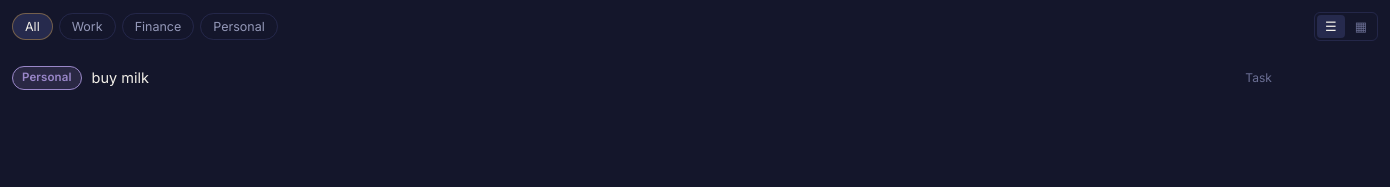
Test case: EntryList › defaults to list layout and can switch to card layout
The width and height of the screenshot is (1390, 187).
Expected: the list with class "entry-list" is shown, [12,66,1272,90]
Step 1. Click the button named "card view" → click(1361, 26), box [1347,15,1375,38]
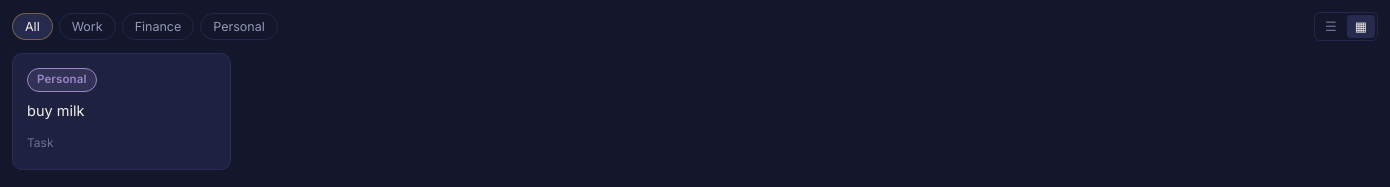
Expected: the list with class "entry-list" is shown, [12,53,231,170]
Expected: the text "buy milk" is shown, [27,100,84,122]
Step 2. Click the button named "list view" → click(1331, 26), box [1317,15,1345,38]
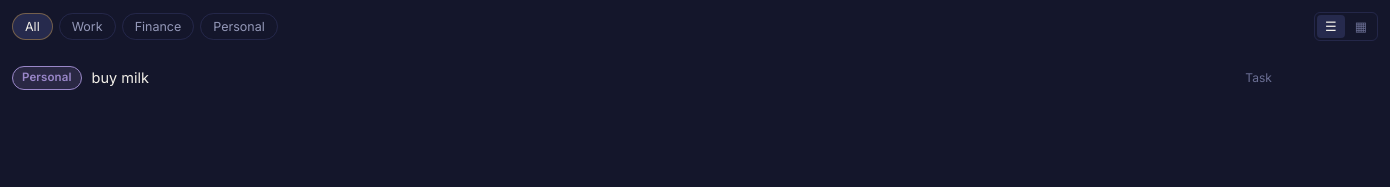
Result: the list with class "entry-list" is shown at [12,66,1272,90]
